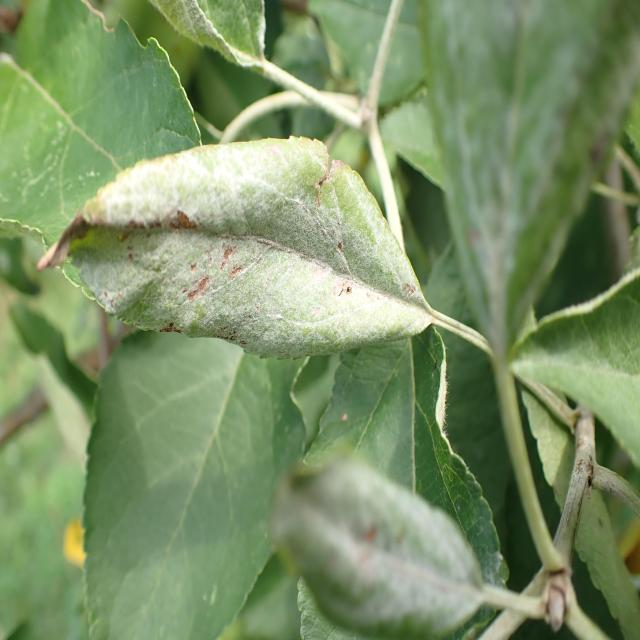Powdery_mildew: (76, 134, 438, 371), (254, 452, 493, 640), (152, 0, 292, 94)
